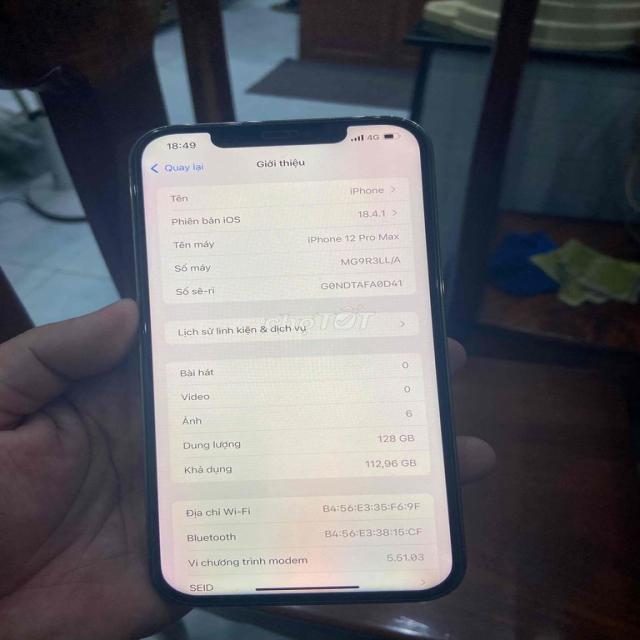gen_12_13: (123, 113, 472, 610)
